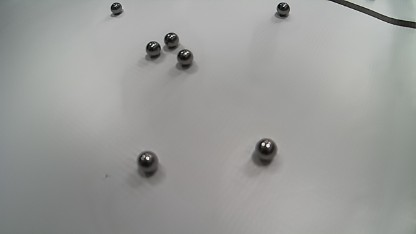ironball: (254, 138, 277, 161), (137, 151, 158, 175), (177, 49, 193, 65), (164, 32, 179, 48), (145, 41, 161, 56), (276, 2, 290, 16), (110, 2, 122, 15)
